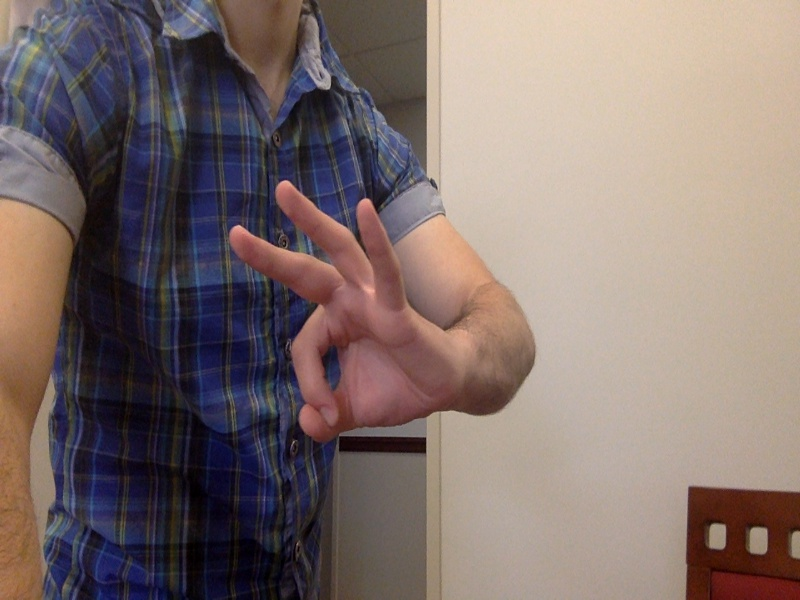3-hand: (230, 182, 462, 443)
